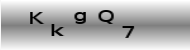7: (120, 24, 136, 40)
K: (29, 11, 44, 25)
Q: (96, 9, 115, 25)
g: (73, 11, 87, 25)
k: (50, 23, 65, 37)
